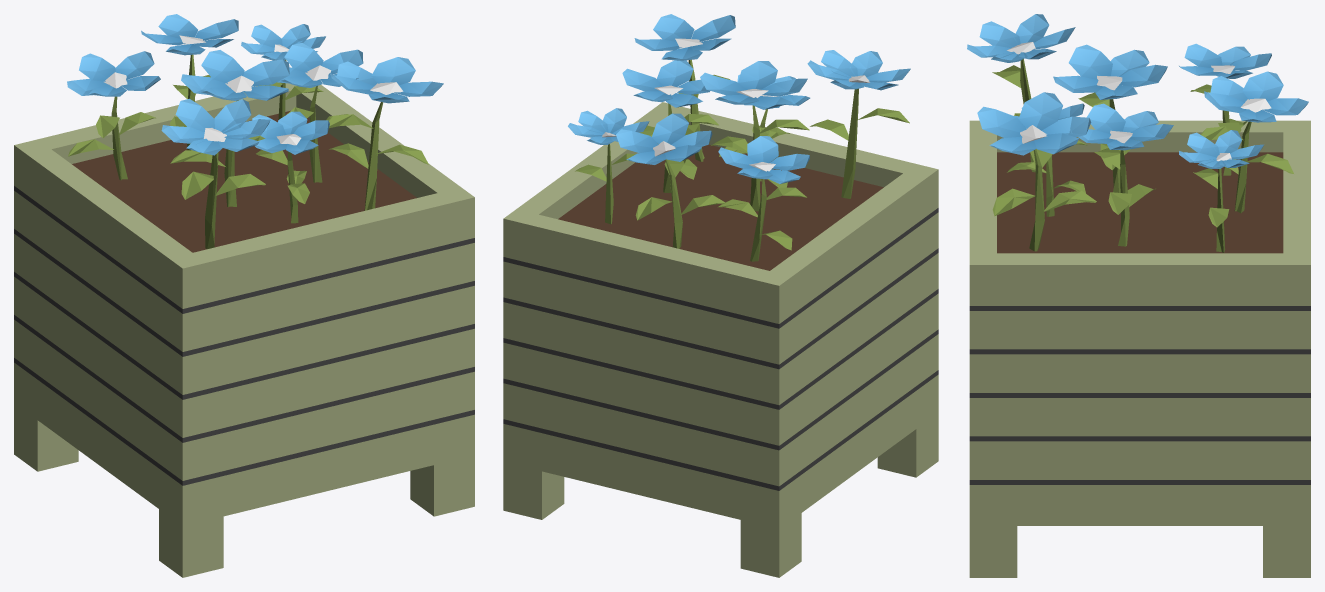
The model's file is Pot_03.fbx.
The picture shows the model from 3 angles, left to right: view 1: azimuth 30°, elevation 25°; view 2: azimuth 150°, elevation 25°; view 3: azimuth 270°, elevation 25°; orthographic projection. The views are drawn at different scales.
Visible parts, largest first — view 1: Pot_03; view 2: Pot_03; view 3: Pot_03.
Part boxes in pixels (<box>): Pot_03: <box>14,14,474,577</box>; Pot_03: <box>503,14,938,577</box>; Pot_03: <box>967,14,1310,577</box>.
Bounding box in the file's own units: 59.33 × 83.13 × 59.76.
